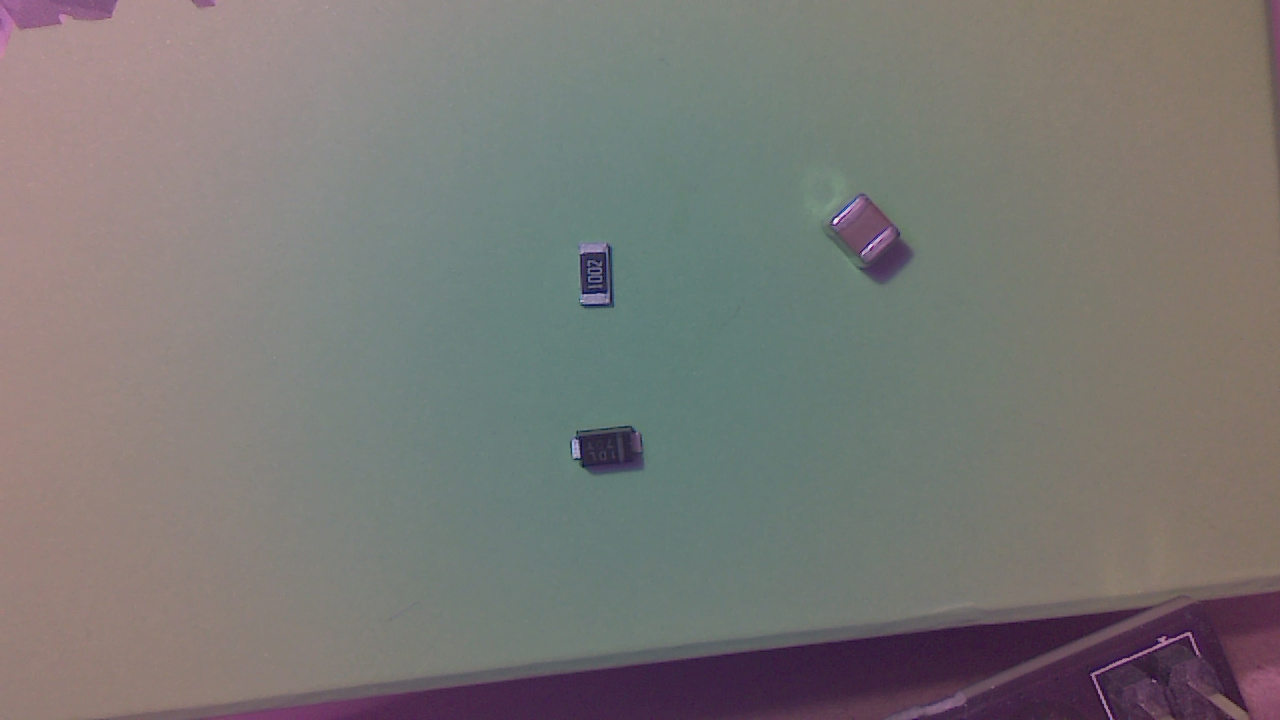Condensator: (829, 200, 907, 277)
Diode: (573, 424, 651, 479)
Resistor: (581, 247, 620, 315)
